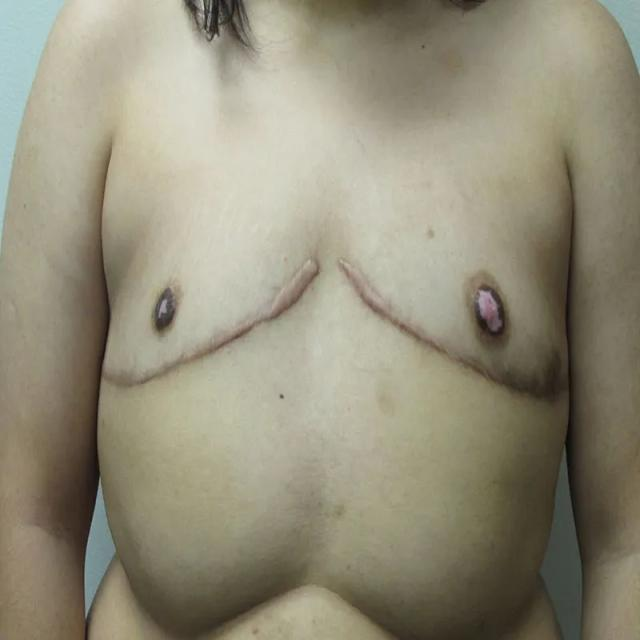Seno herido: (331, 208, 580, 429), (92, 208, 326, 418)
